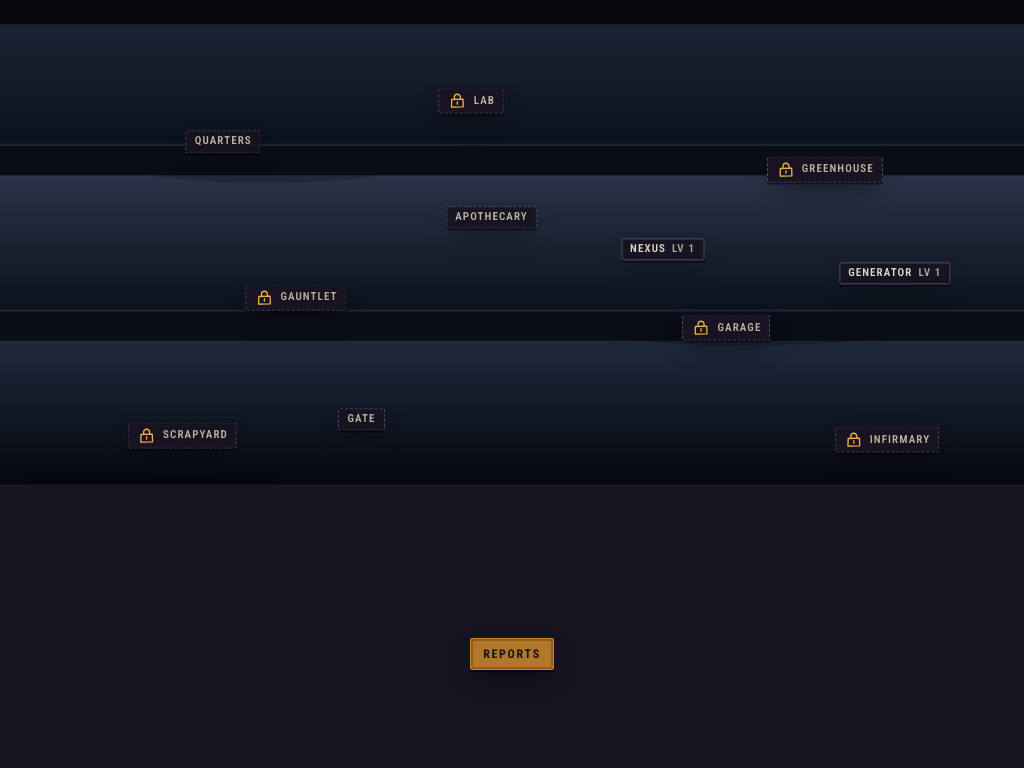
Test case: §A1: what the district houses and what it makes › reports who is housed against how many beds there are
The image size is (1024, 768).
Step 1. Click the button with test id "reports-toggle" → (512, 654), box 470,638 -> 554,670
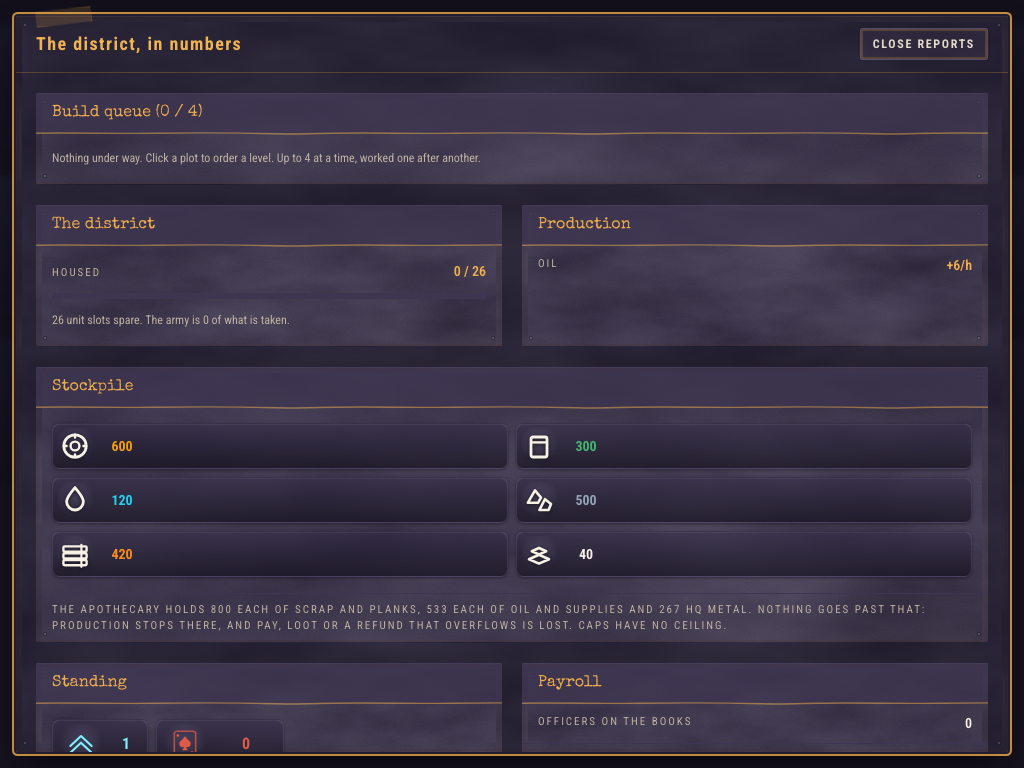
Expected: the text with test id "housing-balance" reads "0 / 26", 454,260 -> 486,280
Expected: the text "26 unit slots spare. The army is 0 of what is taken." is shown, 52,313 -> 290,327
